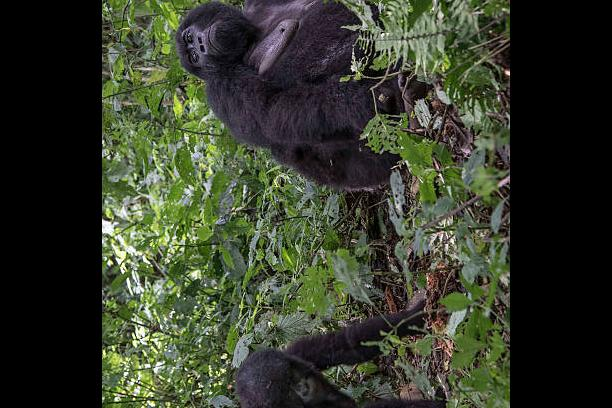goriile_montagne: (171, 0, 402, 187), (237, 300, 449, 408)
